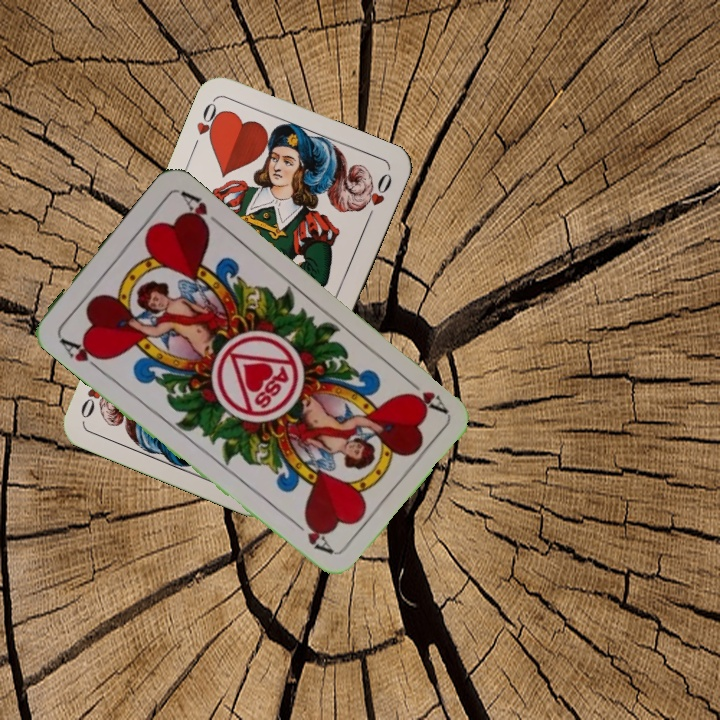HA: (55, 333, 109, 375), (400, 372, 450, 416)
HO: (188, 96, 226, 153)
